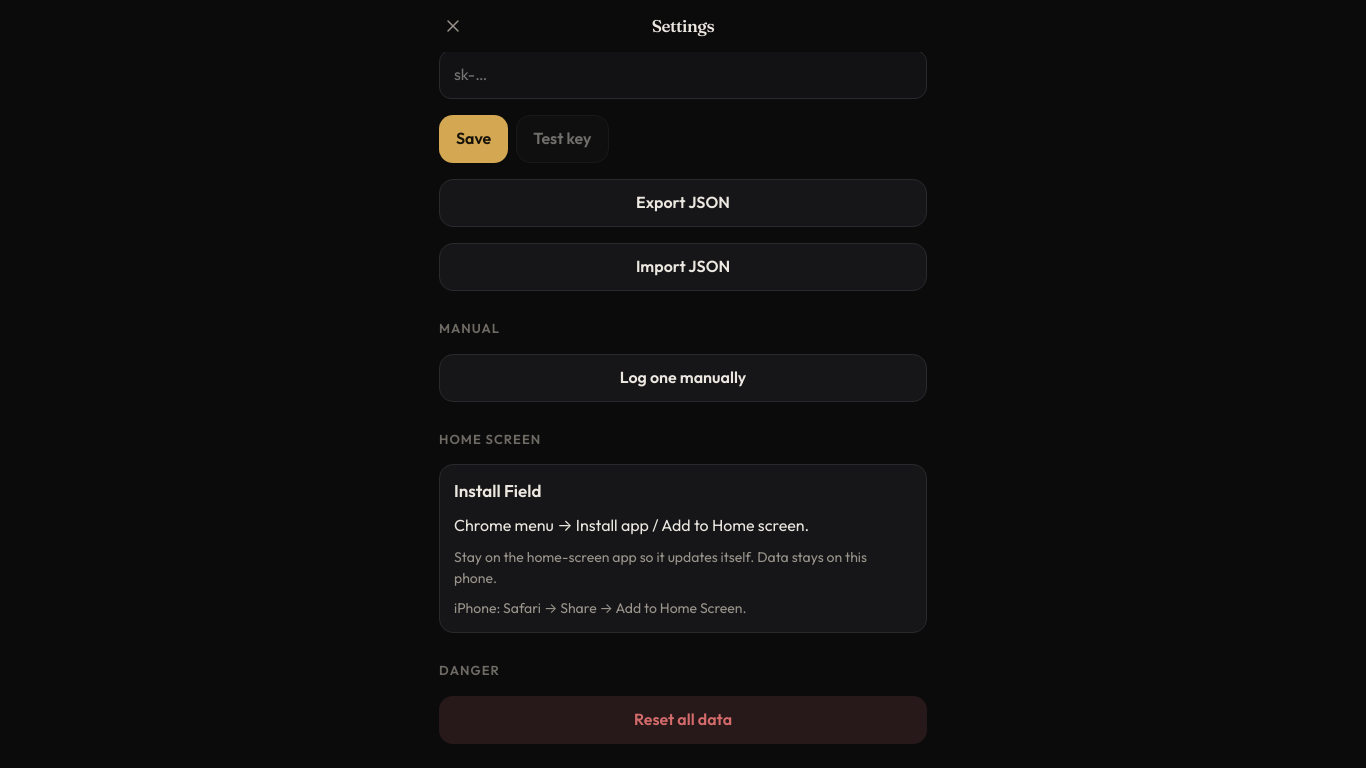
Settings Reset all data › cancel leaves data in place
(page scrolled)
Click the button "Reset all data" at (683, 720), box [439,696,927,744]
(page scrolled)
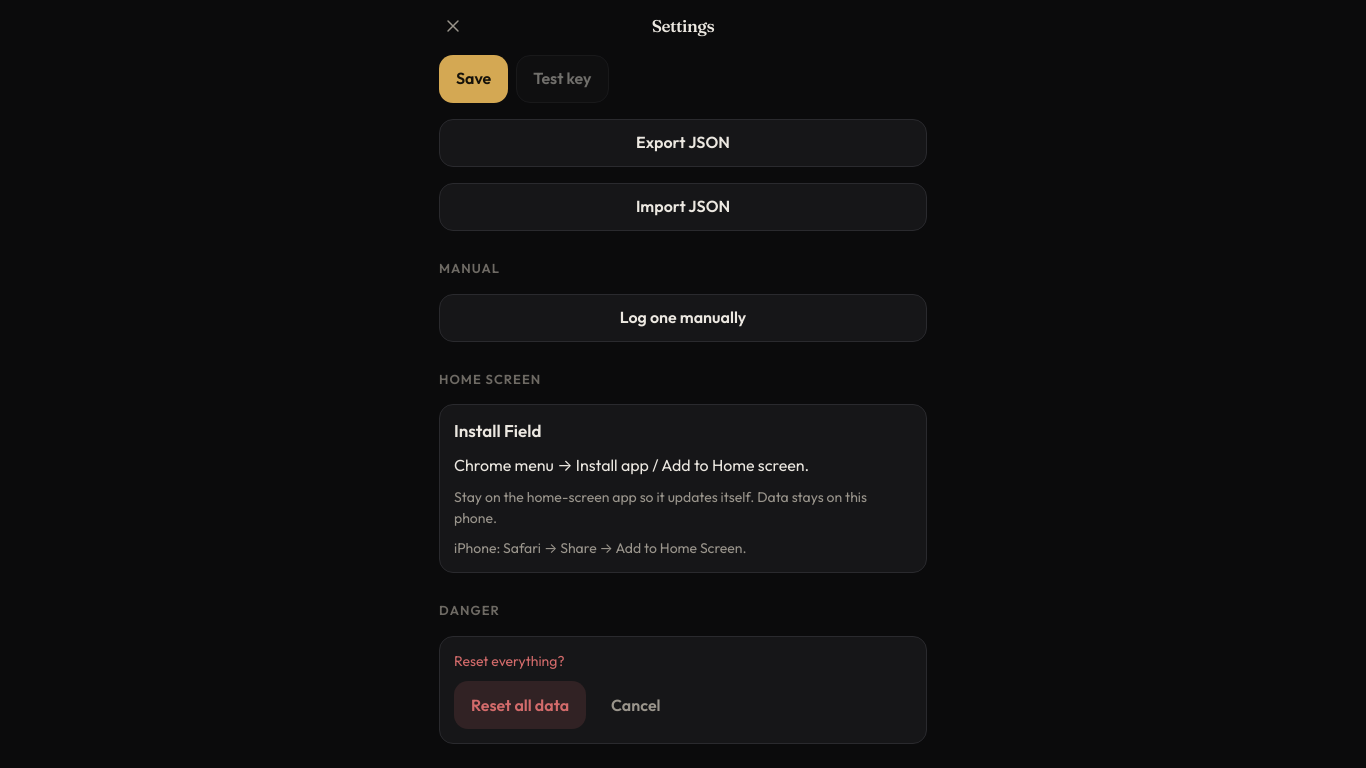
Click the button "Cancel" at (636, 705), box [594,681,678,729]
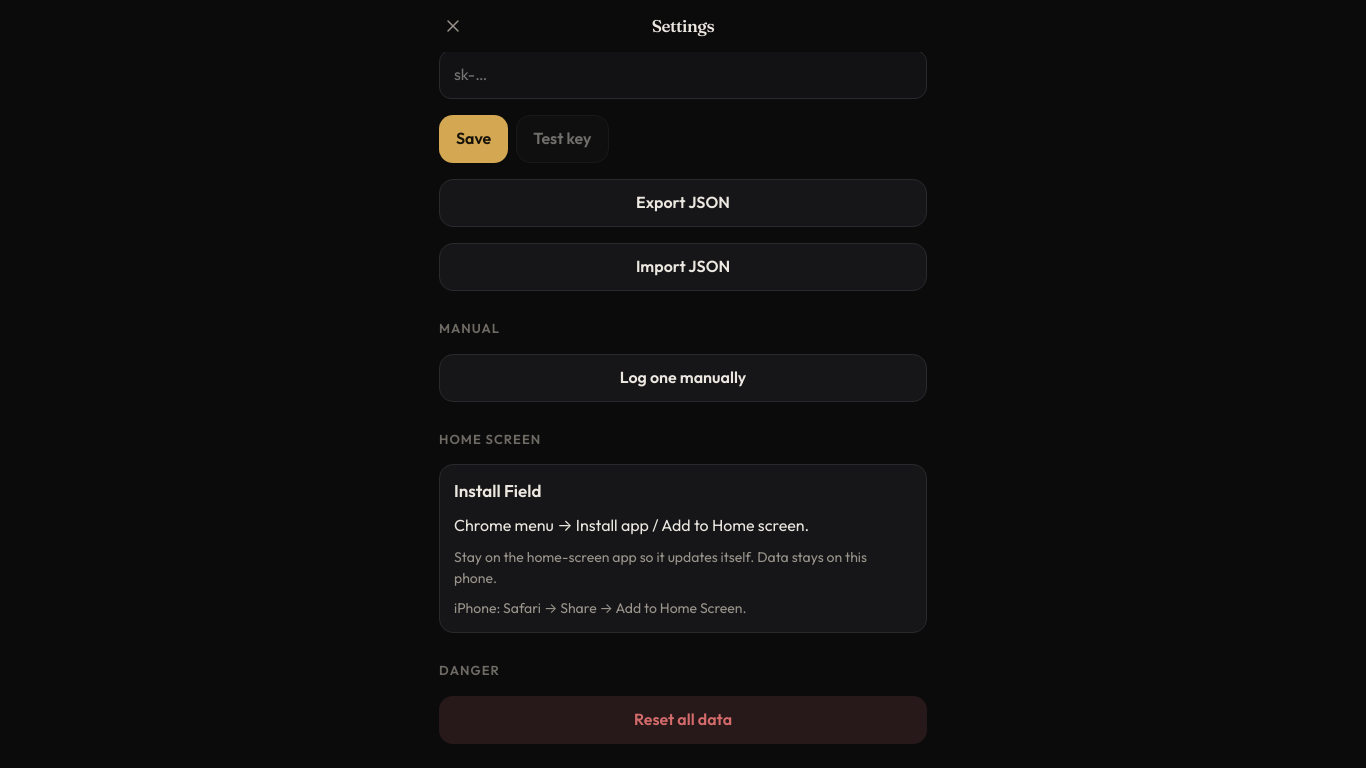
Expected: the text "Reset everything?" is gone
